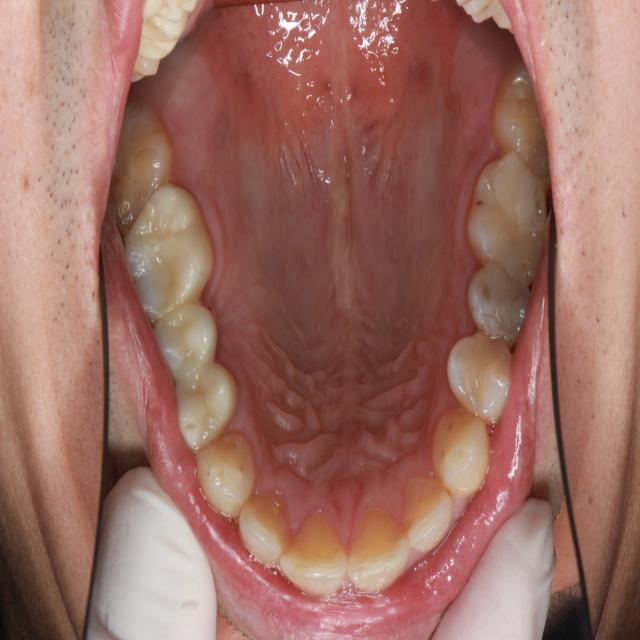tooth: (117, 180, 220, 325), (458, 141, 556, 292), (94, 96, 185, 251), (480, 50, 565, 186), (440, 320, 521, 426), (339, 490, 415, 598), (423, 396, 496, 507), (143, 297, 224, 388), (189, 426, 264, 524), (462, 257, 538, 351), (168, 359, 241, 454), (279, 502, 348, 601), (397, 462, 459, 568), (231, 479, 298, 573)
